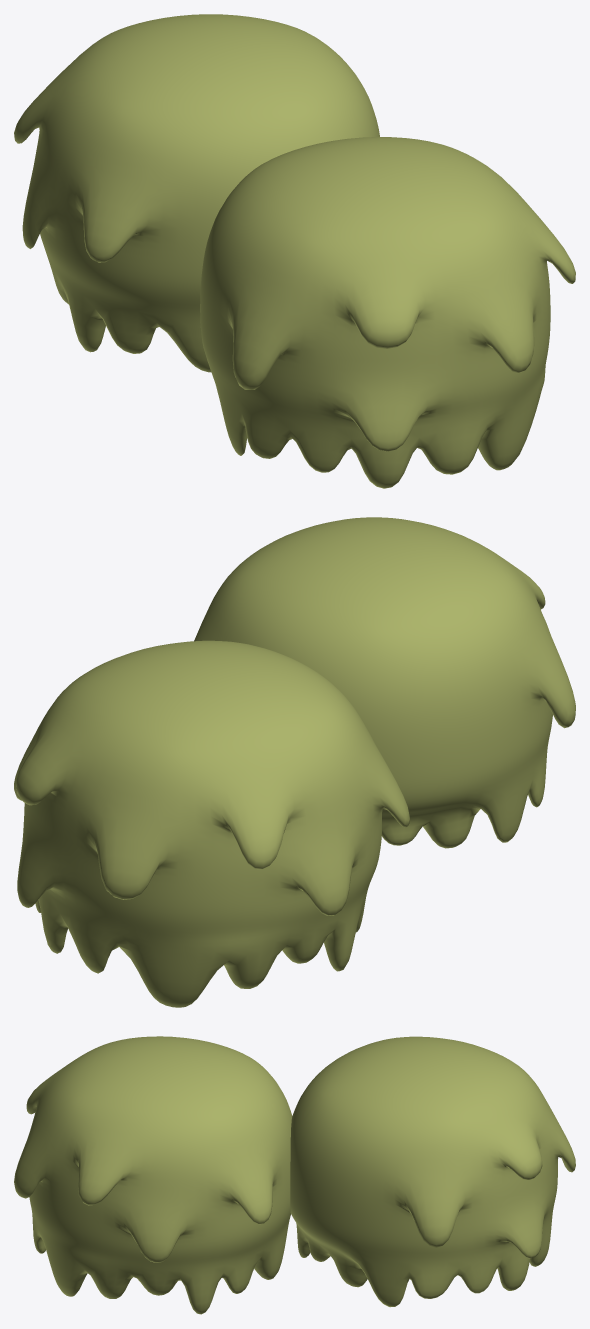
Rendered from Bush_1.fbx.
3 views of the same model, one above another, from view 1: azimuth 30°, elevation 25°; view 2: azimuth 150°, elevation 25°; view 3: azimuth 270°, elevation 25° (orthographic). The views are drawn at different scales.
Parts seen in each view (by area): view 1: Cube.013; view 2: Cube.013; view 3: Cube.013.
Part boxes in pixels (x1,y1,x2,y2): Cube.013: (14, 14, 575, 488); Cube.013: (14, 517, 575, 1007); Cube.013: (14, 1036, 575, 1314).
Size of the model in its own units: 325 by 248 by 595.
